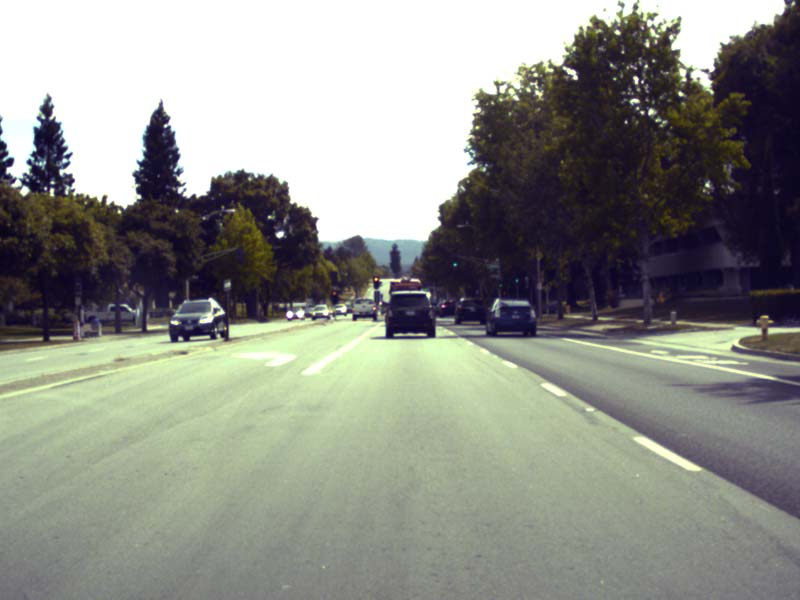Green: (498, 280, 502, 287), (453, 257, 456, 266), (515, 273, 518, 282)
Red: (374, 276, 378, 288), (332, 291, 336, 302)
